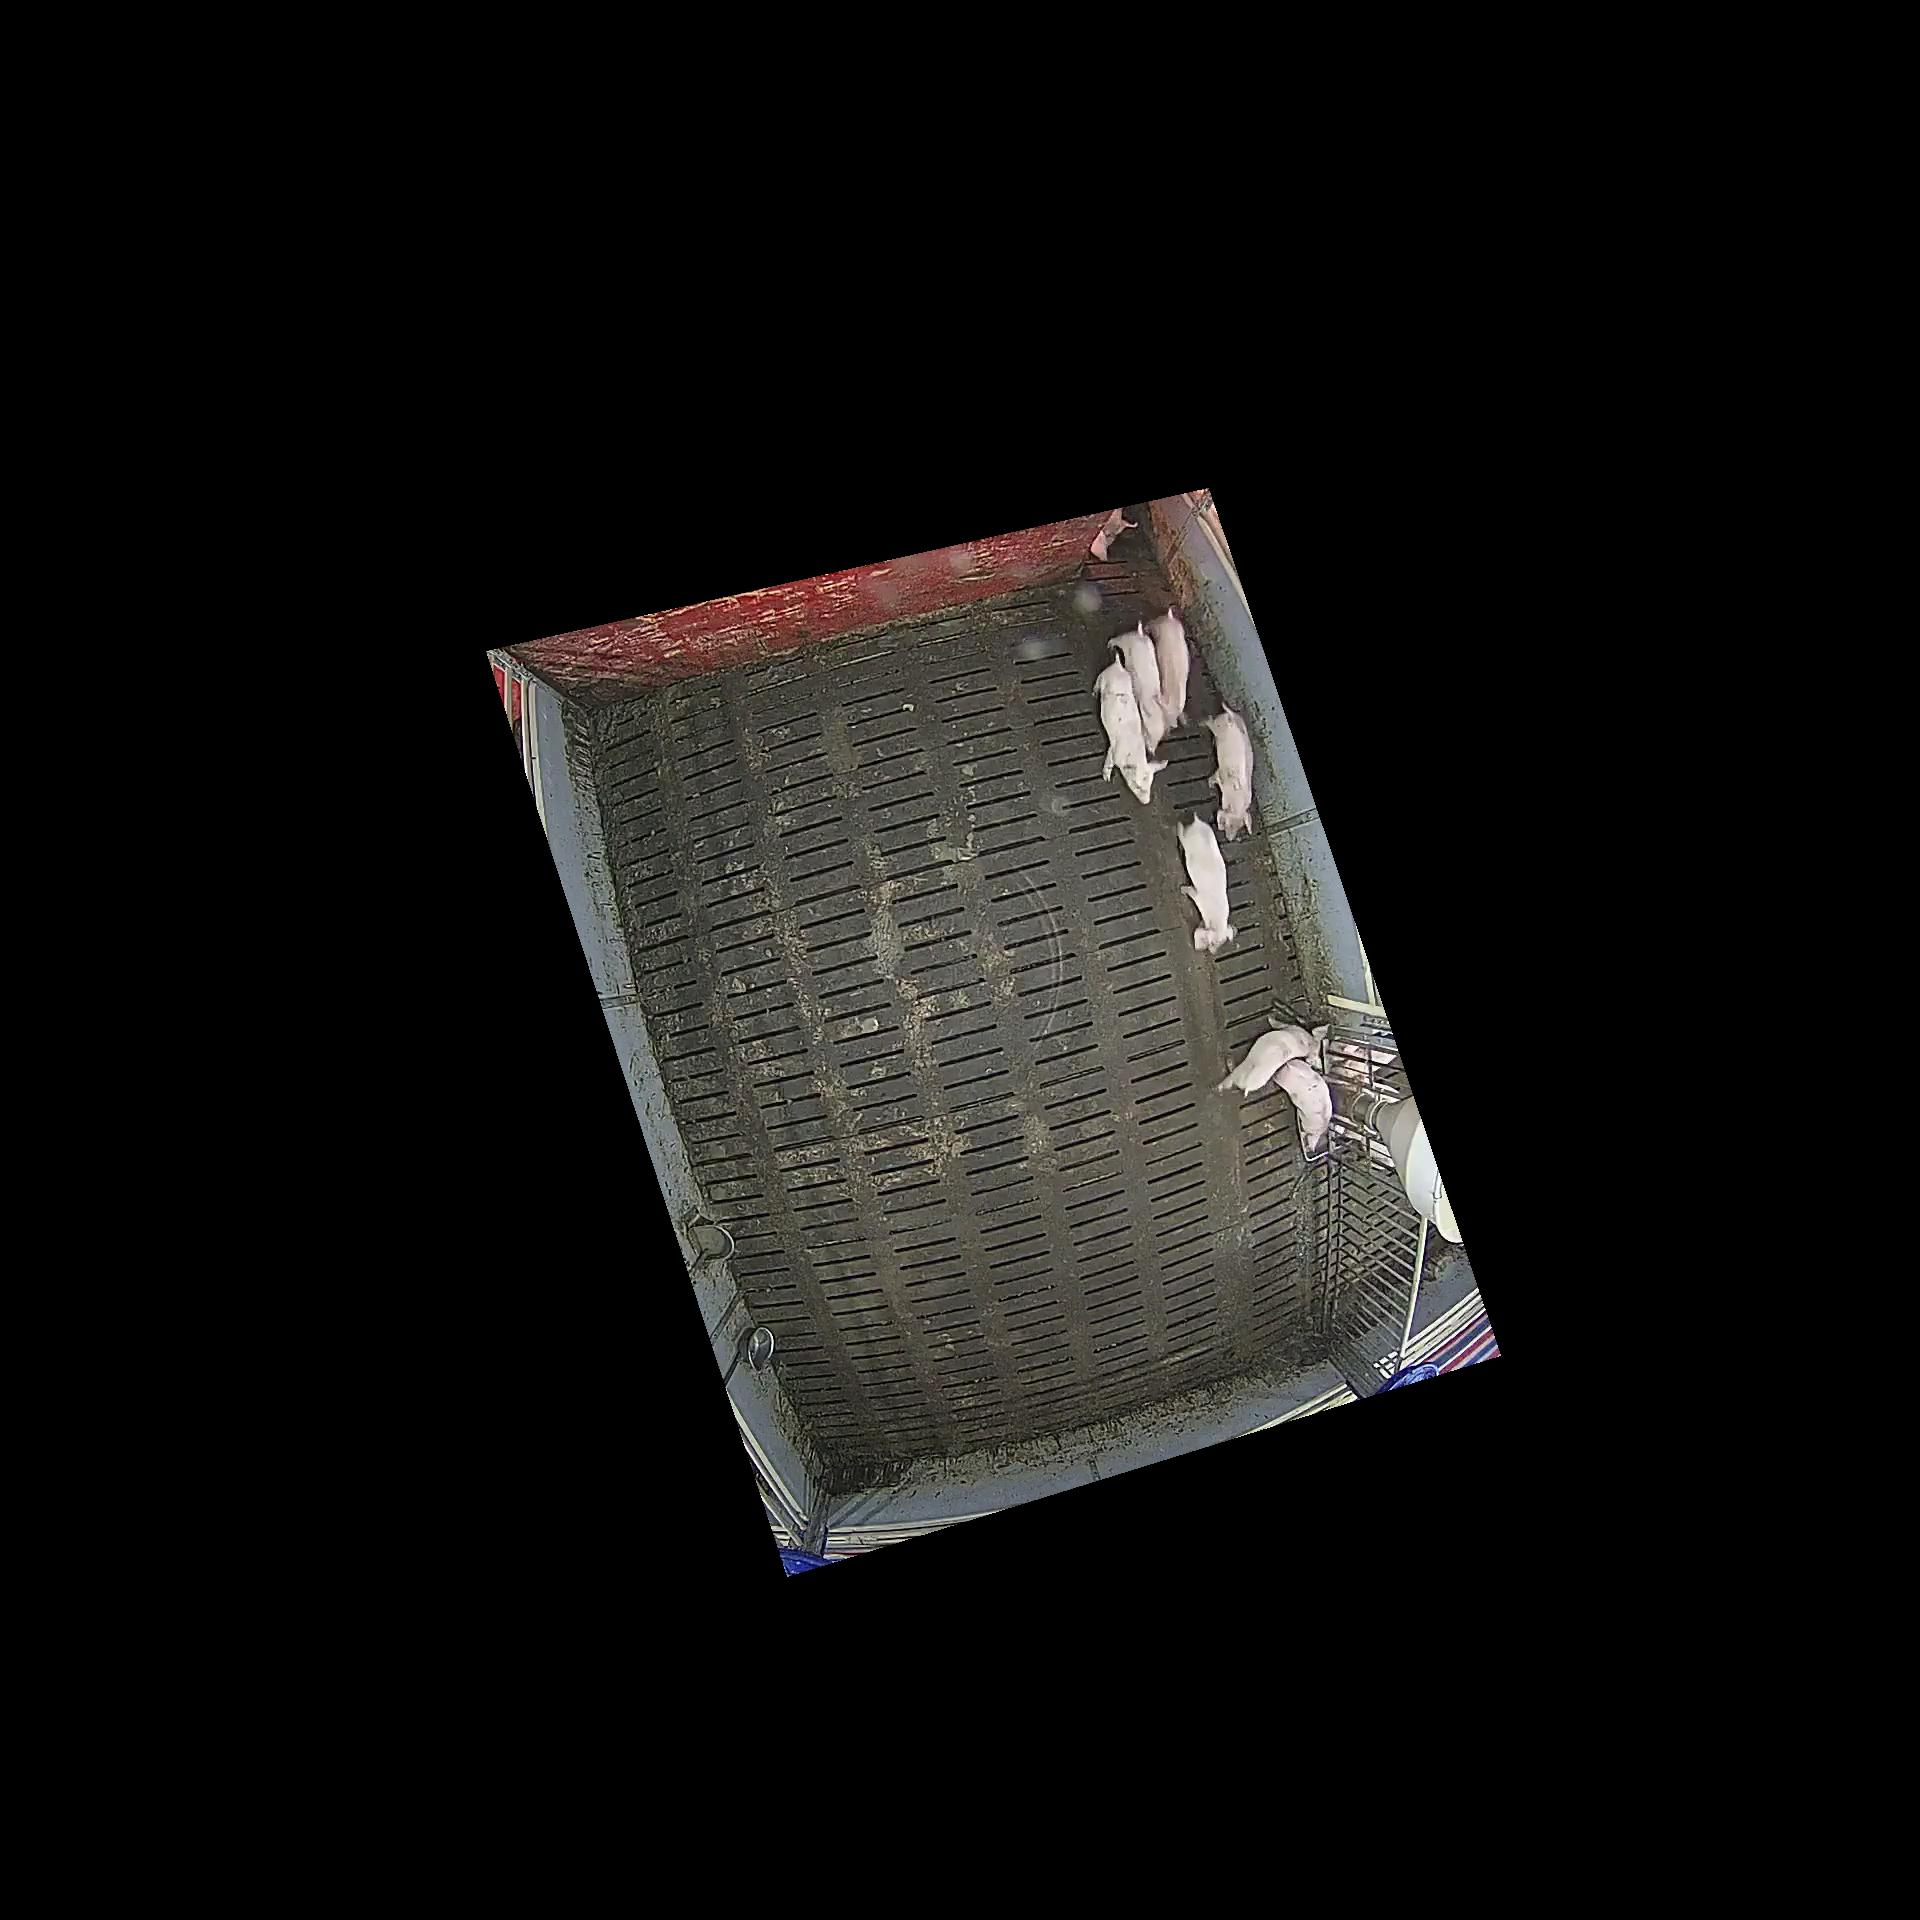pig: (1092, 656, 1169, 807), (1217, 1018, 1326, 1095), (1176, 818, 1236, 955), (1199, 705, 1254, 842), (1108, 633, 1167, 754), (1273, 1060, 1335, 1150), (1146, 610, 1190, 730)
